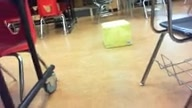cube: (101, 19, 133, 49)
